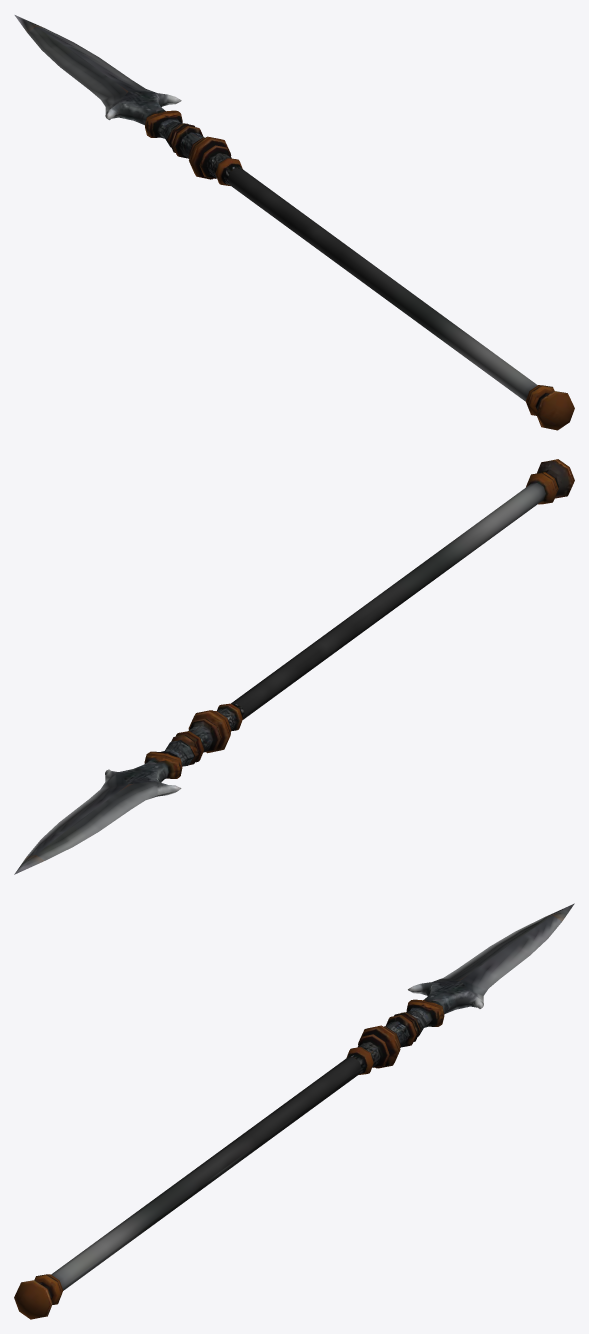
Rendered from g_spear.fbx.
3 renders of one model, top to bottom at view 1: azimuth 30°, elevation 25°; view 2: azimuth 150°, elevation 25°; view 3: azimuth 330°, elevation 25°, orthographic.
Parts seen in each view (by area): view 1: tripo_node_24bc77c4-76c3-4287-a573-65c6fcc6adea; view 2: tripo_node_24bc77c4-76c3-4287-a573-65c6fcc6adea; view 3: tripo_node_24bc77c4-76c3-4287-a573-65c6fcc6adea.
Boxes of the visible parts, bbox=[...] form: tripo_node_24bc77c4-76c3-4287-a573-65c6fcc6adea: bbox=[14, 15, 574, 430]; tripo_node_24bc77c4-76c3-4287-a573-65c6fcc6adea: bbox=[14, 459, 574, 874]; tripo_node_24bc77c4-76c3-4287-a573-65c6fcc6adea: bbox=[14, 903, 574, 1319].
Size of the model in its own units: 0.1788 by 0.0966 by 2.27.
Materials: 1 (1 with a texture image).
